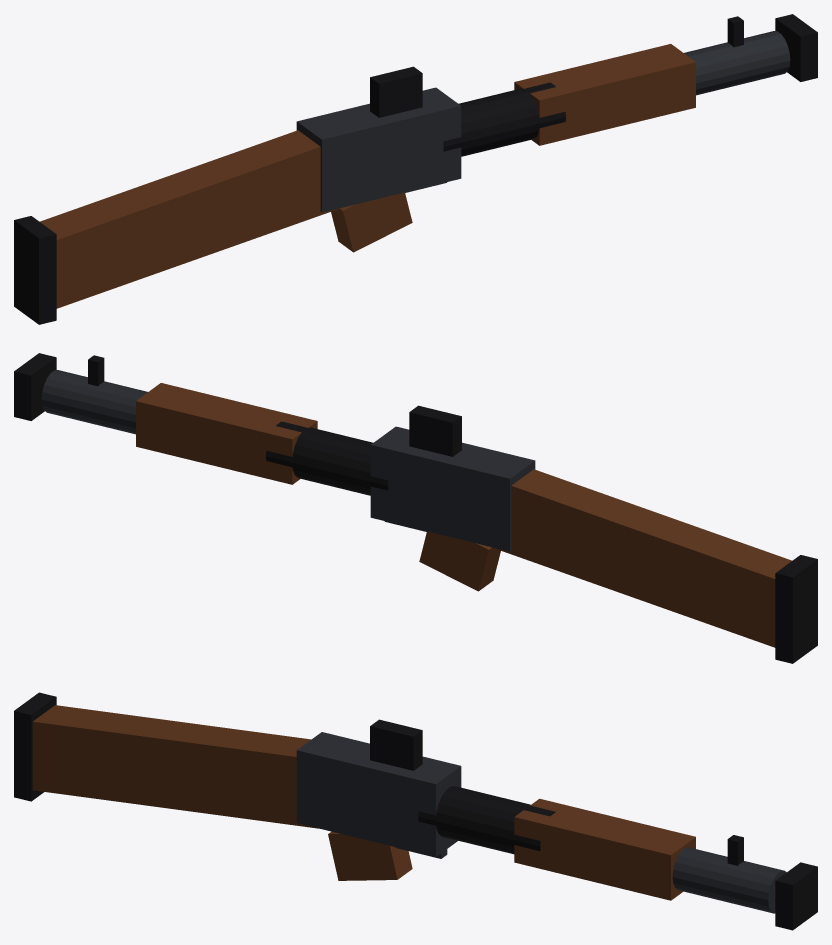
3 renders of one model, top to bottom at view 1: azimuth 30°, elevation 25°; view 2: azimuth 150°, elevation 25°; view 3: azimuth 330°, elevation 25°, orthographic.
Parts seen in each view (by area): view 1: Cube; view 2: Cube; view 3: Cube.
Boxes of the visible parts, x1,y1,x2,y2 form: Cube: (14, 14, 817, 324); Cube: (14, 353, 817, 663); Cube: (14, 692, 817, 930).
Bounding box in the file's own units: 0.895 × 0.1752 × 0.052.
